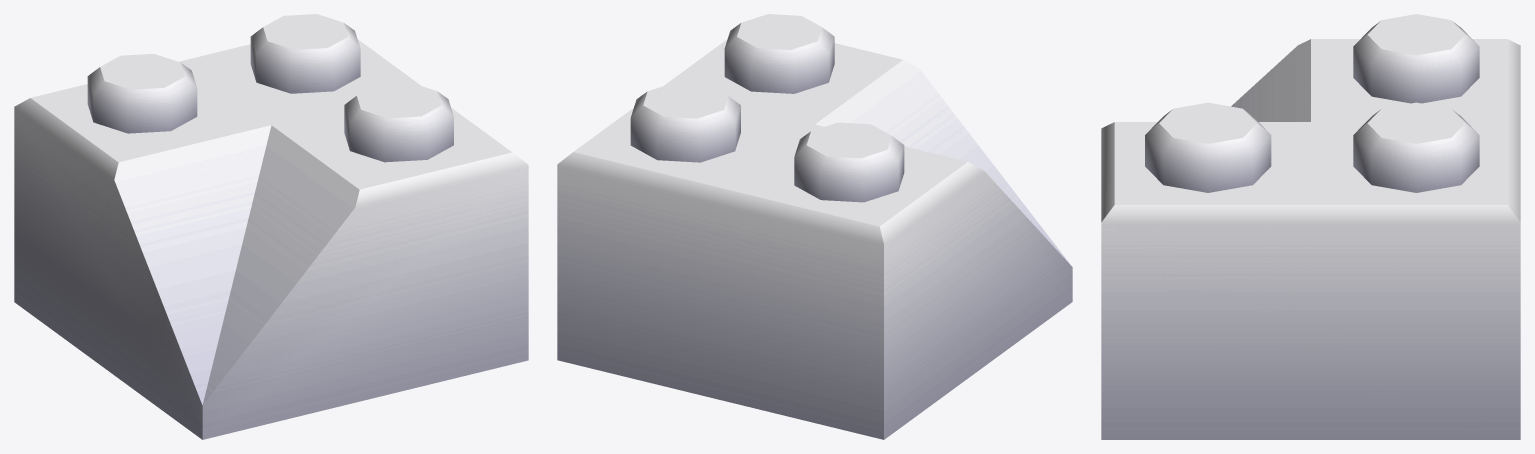
File: round-hq-brick-slope-corner-inside-2x2.glb
The picture shows the model from 3 angles, left to right: view 1: azimuth 30°, elevation 25°; view 2: azimuth 150°, elevation 25°; view 3: azimuth 270°, elevation 25°; orthographic projection. The views are drawn at different scales.
Visible parts, largest first — view 1: round-hq-brick-slope-corner-inside-2x2; view 2: round-hq-brick-slope-corner-inside-2x2; view 3: round-hq-brick-slope-corner-inside-2x2.
Part boxes in pixels (bbox=[...]): round-hq-brick-slope-corner-inside-2x2: bbox=[14, 14, 528, 439]; round-hq-brick-slope-corner-inside-2x2: bbox=[557, 14, 1072, 439]; round-hq-brick-slope-corner-inside-2x2: bbox=[1101, 14, 1520, 439].
Size of the model in its own units: 0.795 by 0.57 by 0.795.
1 material, 1 textured.
